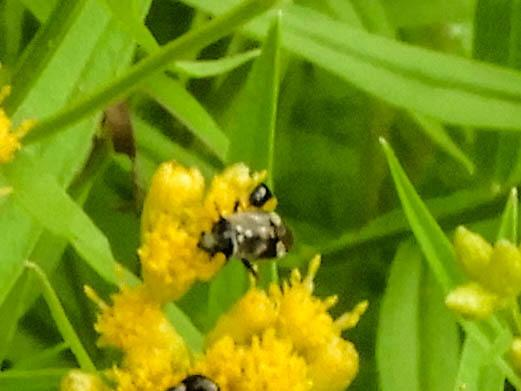plant_bugs: (176, 176, 310, 300)
